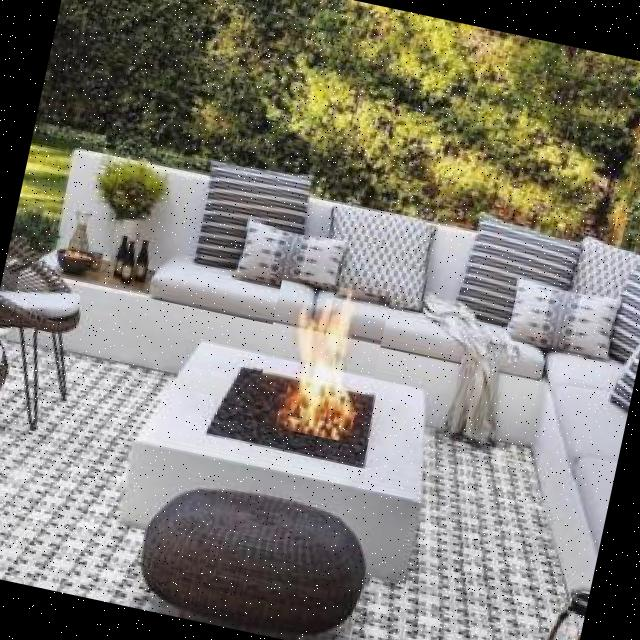fire: (252, 274, 391, 445)
